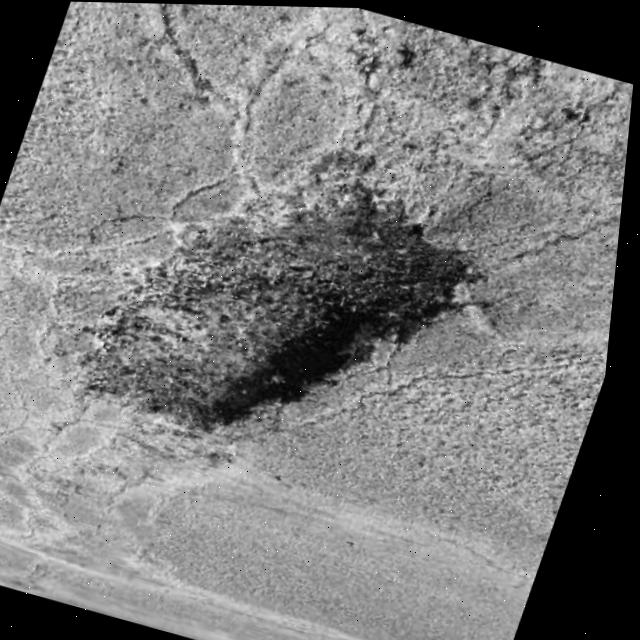Pothole: (47, 103, 517, 499)
